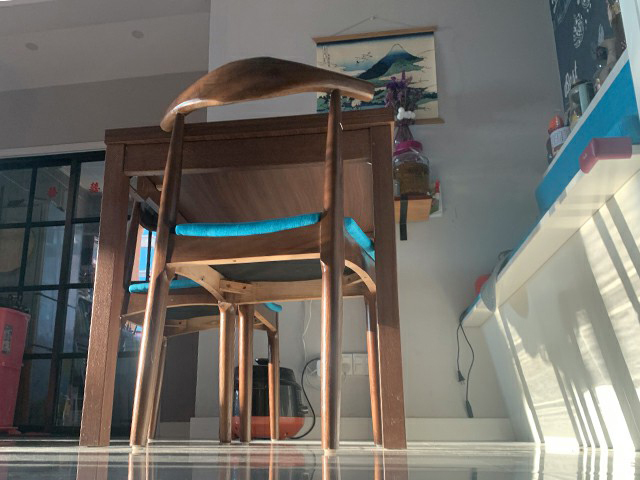stool: (127, 54, 386, 450), (120, 221, 283, 446)
table: (78, 107, 409, 451)
wire: (285, 356, 322, 440)
